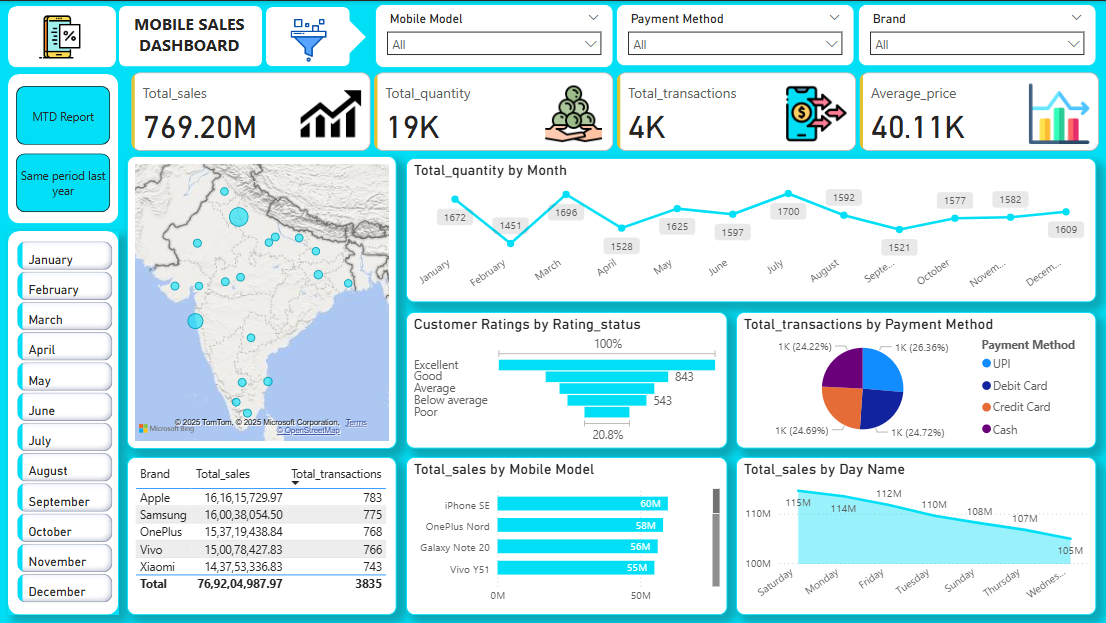

This screenshot's page, from the dashboard's own definition file:
{"tool":"powerbi","page":{"name":"Dashboard","canvas":[1280,720],"ordinal":1},"visuals":[{"type":"shape","box":[9.8,6.1,125.2,71.2],"z":0},{"type":"shape","box":[9.8,84.7,127.6,173],"z":1000},{"type":"shape","box":[9.8,266.3,127.6,444.2],"z":2000},{"type":"advancedSlicerVisual","fields":{"Values":["Custom Calendar.Date.Variation.Date Hierarchy.Month"]},"box":[14.7,273.6,120.2,434.4],"z":3000},{"type":"cardVisual","fields":{"Data":["Mobile Sales Data.Total_sales","Mobile Sales Data.Total_quantity","Mobile Sales Data.Total_transactions","Mobile Sales Data.Average_price"]},"box":[147.2,77.3,1132.5,101.8],"z":4000},{"type":"slicer","fields":{"Values":["Mobile Sales Data.Mobile Model"]},"box":[434.4,3.7,276.1,73.6],"z":5000},{"type":"slicer","fields":{"Values":["Mobile Sales Data.Payment Method"]},"box":[712.9,3.7,276.1,72.4],"z":6000},{"type":"slicer","fields":{"Values":["Mobile Sales Data.Brand"]},"box":[992.6,3.7,276.1,72.4],"z":7000},{"type":"shape","box":[308,7.4,96.9,68.7],"z":8000},{"type":"image","box":[306.8,14.7,100.6,61.4],"z":9000},{"type":"shape","box":[380.4,20.9,42.9,41.7],"z":10000},{"type":"shape","box":[137.4,6.1,165.6,69.9],"z":11000},{"type":"textbox","box":[141.1,8.6,155.8,61.4],"z":12000},{"type":"map","fields":{"Category":["Mobile Sales Data.City"],"Size":["Mobile Sales Data.Total_sales"]},"box":[147.2,179.1,311.7,338.7],"z":13000},{"type":"lineChart","fields":{"Y":["Mobile Sales Data.Total_quantity"],"Category":["Custom Calendar.Date.Variation.Date Hierarchy.Month"]},"box":[469.9,181.6,798.8,166.9],"z":14000},{"type":"funnel","title":"Customer Ratings by Rating_status","fields":{"Y":["CountNonNull(Mobile Sales Data.Customer Ratings)"],"Category":["Mobile Sales Data.Rating_status"]},"box":[469.9,359.5,371.8,158.3],"z":15000},{"type":"pieChart","fields":{"Category":["Mobile Sales Data.Payment Method"],"Y":["Mobile Sales Data.Total_transactions"]},"box":[851.5,359.5,417.2,158.3],"z":16000},{"type":"tableEx","fields":{"Values":["Mobile Sales Data.Brand","Mobile Sales Data.Total_sales","Mobile Sales Data.Total_transactions"]},"box":[147.2,527.6,311.7,182.8],"z":17000},{"type":"barChart","fields":{"Y":["Mobile Sales Data.Total_sales"],"Category":["Mobile Sales Data.Mobile Model"]},"box":[469.9,527.6,371.8,182.8],"z":18000},{"type":"areaChart","fields":{"Y":["Mobile Sales Data.Total_sales"],"Category":["Custom Calendar.Day Name"]},"box":[851.5,527.6,417.2,182.8],"z":19000},{"type":"pageNavigator","box":[18.4,98.2,109.2,146],"z":20000},{"type":"image","box":[33.1,8.6,71.2,67.5],"z":21000}]}

Visuals, with their boxes in screenshot pixels (x1, y1, x2, y2), scaled from the page's 1280x720 canvas onto the 1106x623 screenshot:
shape: Rect(8, 5, 117, 67)
shape: Rect(8, 73, 119, 223)
shape: Rect(8, 230, 119, 615)
advancedSlicerVisual - Custom Calendar.Date.Variation.Date Hierarchy.Month: Rect(13, 237, 117, 613)
cardVisual - Mobile Sales Data.Total_sales x Mobile Sales Data.Total_quantity: Rect(127, 67, 1105, 155)
slicer - Mobile Sales Data.Mobile Model: Rect(375, 3, 614, 67)
slicer - Mobile Sales Data.Payment Method: Rect(616, 3, 855, 66)
slicer - Mobile Sales Data.Brand: Rect(858, 3, 1096, 66)
shape: Rect(266, 6, 350, 66)
image: Rect(265, 13, 352, 66)
shape: Rect(329, 18, 366, 54)
shape: Rect(119, 5, 262, 66)
textbox: Rect(122, 7, 257, 61)
map - Mobile Sales Data.City x Mobile Sales Data.Total_sales: Rect(127, 155, 397, 448)
lineChart - Mobile Sales Data.Total_quantity x Custom Calendar.Date.Variation.Date Hierarchy.Month: Rect(406, 157, 1096, 302)
"Customer Ratings by Rating_status" funnel: Rect(406, 311, 727, 448)
pieChart - Mobile Sales Data.Payment Method x Mobile Sales Data.Total_transactions: Rect(736, 311, 1096, 448)
tableEx - Mobile Sales Data.Brand x Mobile Sales Data.Total_sales: Rect(127, 457, 397, 615)
barChart - Mobile Sales Data.Total_sales x Mobile Sales Data.Mobile Model: Rect(406, 457, 727, 615)
areaChart - Mobile Sales Data.Total_sales x Custom Calendar.Day Name: Rect(736, 457, 1096, 615)
pageNavigator: Rect(16, 85, 110, 211)
image: Rect(29, 7, 90, 66)
